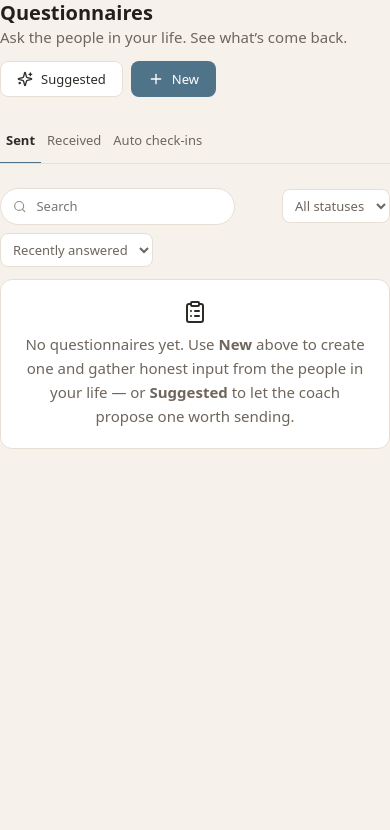
Scenario: Questionnaires › shows an author note for sensitive tiers
Click the button "New" at (173, 79), box [131,61,216,97]
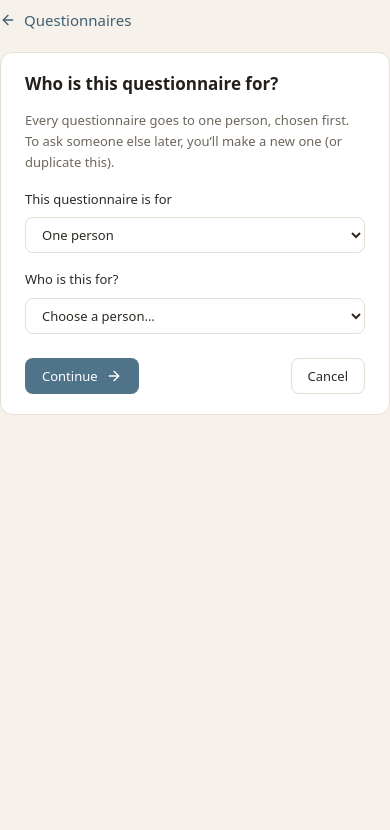
Select "Mara" in the dropdown labelled "Who is this for?" at (195, 316), box [25,298,365,334]
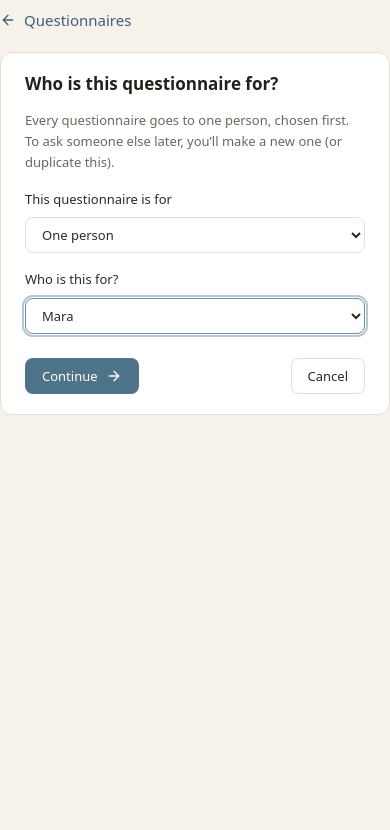
Click the button "Continue" at (82, 376), box [25,358,139,394]
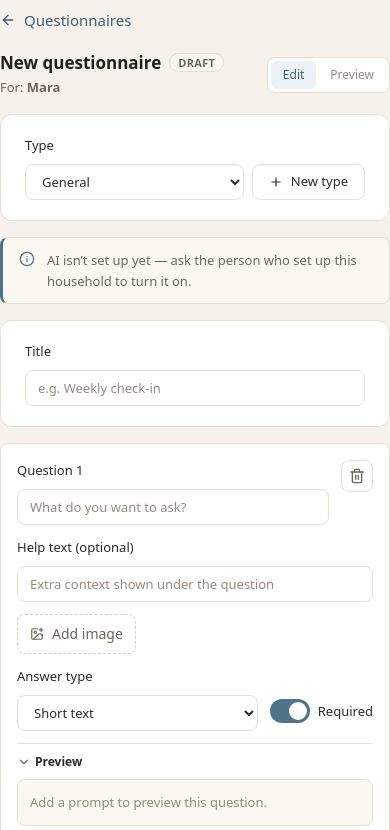
expect the text "date of birth and consent" is not shown: met
expect the field labelled "Title" is shown: met, box [25,370,365,406]
Select "Intimacy" in the dropdown labelled "Type" at (134, 182), box [25,164,244,200]
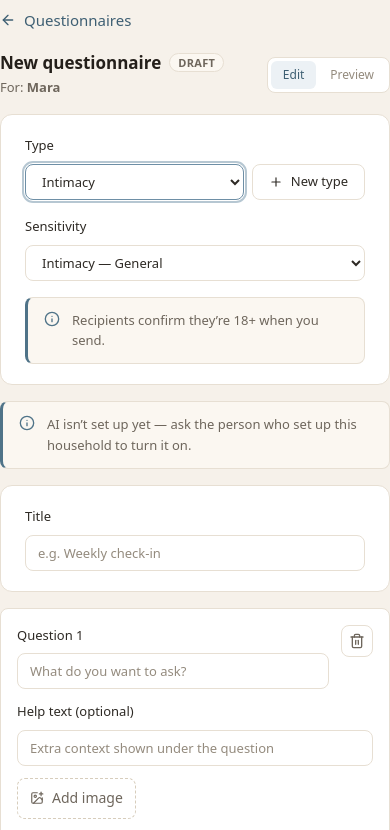
Select "Intimacy — Explicit" in the dropdown labelled "Sensitivity" at (195, 263), box [25,245,365,281]
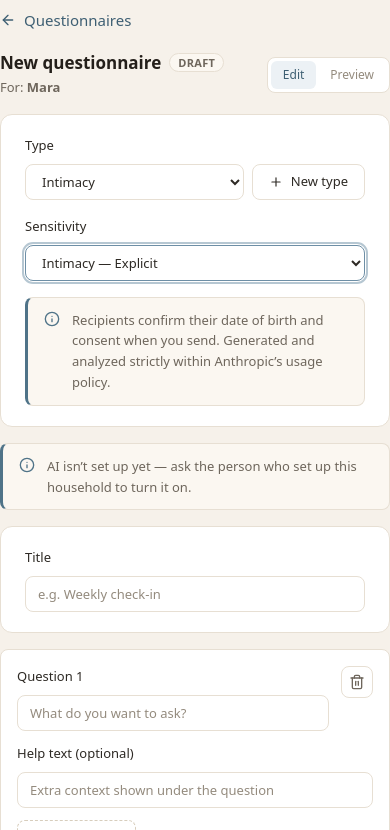
expect the text "date of birth and consent" is shown: met, box [72,311,324,391]
